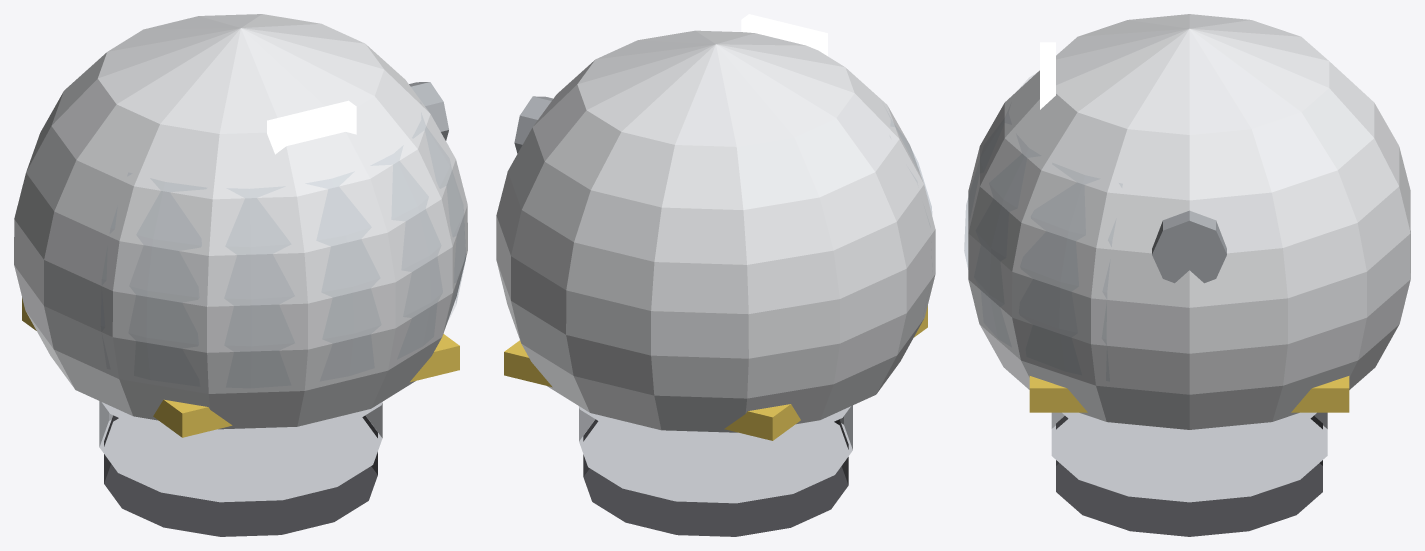
File: prop_helmet.glb
The picture shows the model from 3 angles, left to right: view 1: azimuth 30°, elevation 25°; view 2: azimuth 150°, elevation 25°; view 3: azimuth 270°, elevation 25°; orthographic projection. The views are drawn at different scales.
Parts seen in each view (by area): view 1: prop_helmet; view 2: prop_helmet; view 3: prop_helmet.
Part boxes in pixels (bbox=[...]): prop_helmet: bbox=[14, 14, 467, 536]; prop_helmet: bbox=[496, 14, 935, 536]; prop_helmet: bbox=[964, 14, 1410, 536].
Bounding box in the file's own units: 0.338 × 0.37 × 0.3326.
